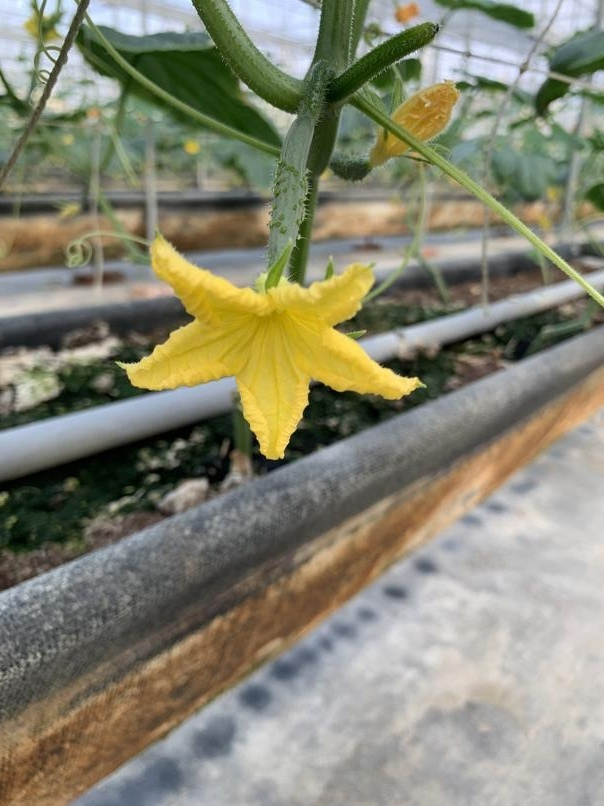flowering: (108, 93, 431, 467)
mature: (109, 91, 429, 470)
